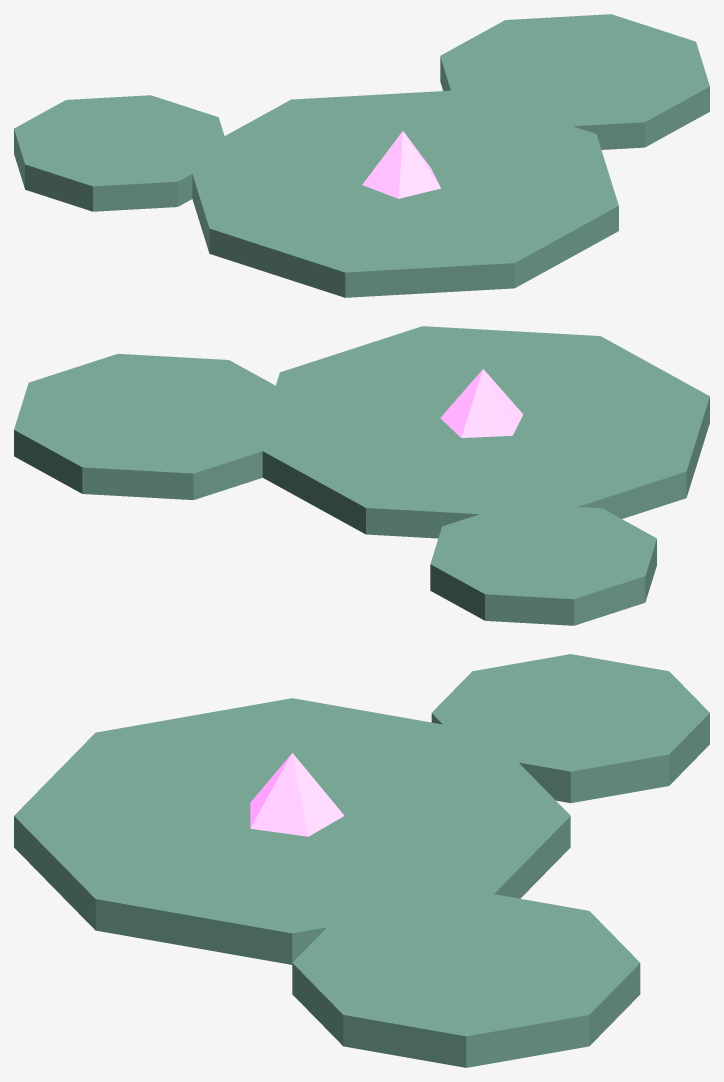
Rendered from vitoria_regia.glb.
3 views of the same model, one above another, from view 1: azimuth 30°, elevation 25°; view 2: azimuth 150°, elevation 25°; view 3: azimuth 270°, elevation 25° (orthographic). The views are drawn at different scales.
Visible parts, largest first — view 1: vitoria_regia; view 2: vitoria_regia; view 3: vitoria_regia.
Part boxes in pixels (x1=…): vitoria_regia: x1=14, y1=14, x2=709, y2=297; vitoria_regia: x1=14, y1=326, x2=709, y2=625; vitoria_regia: x1=14, y1=654, x2=709, y2=1067.
Size of the model in its own units: 0.52 by 0.06 by 0.4.
